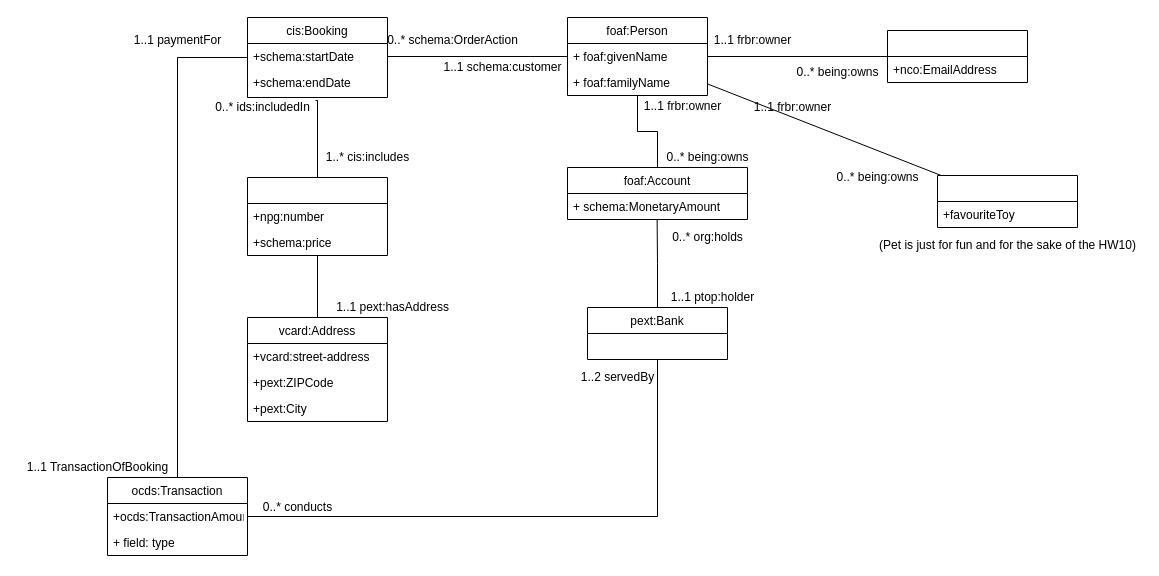
This 1159x576 diagram has some shape labels left out. The box of each missing label's shape, as (x1, y1, x2, y2) in pixels:
dogont:Room: (246, 176, 388, 256)
Pet: (936, 174, 1078, 228)
vcard:email: (886, 30, 1028, 82)
